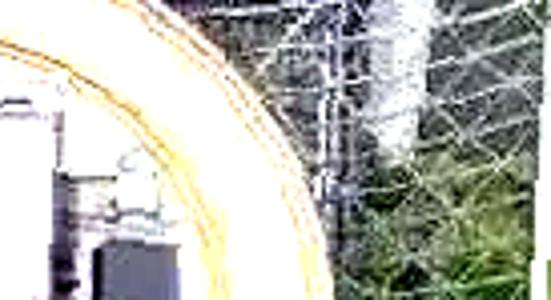Apron: (1, 42, 259, 294)
